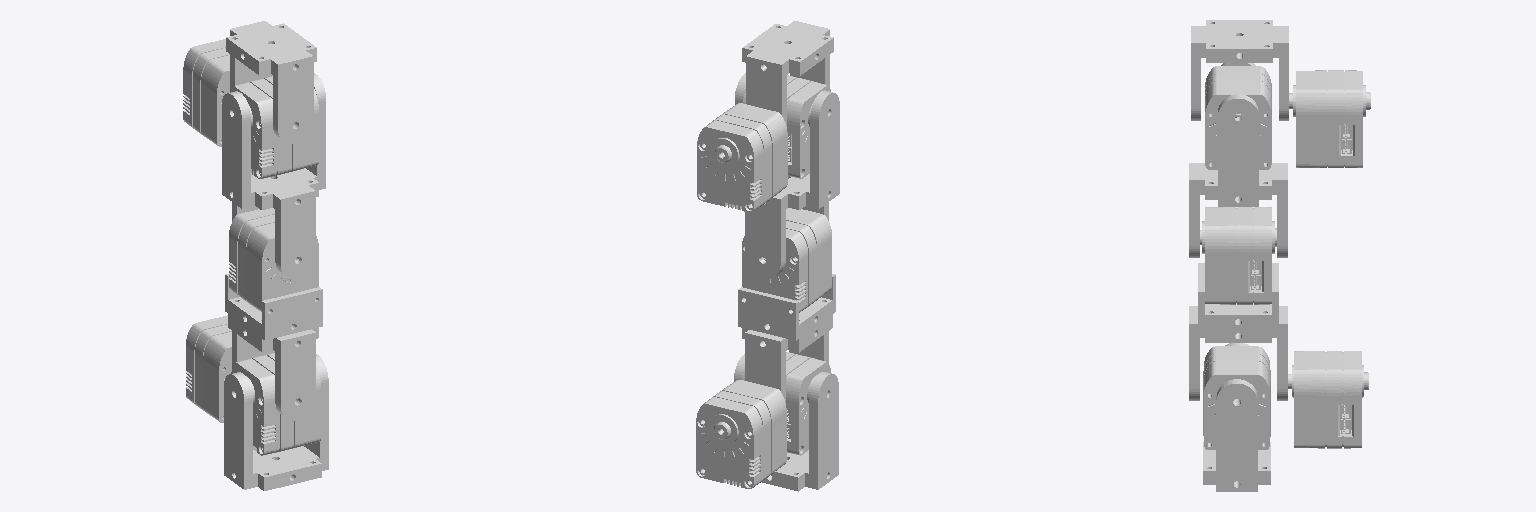
URDF robot description (walker):
<?xml version="1.0" ?>
<!-- =================================================================================== -->
<!-- |    This document was autogenerated by xacro from walker_left_leg.urdf.xacro     | -->
<!-- |    EDITING THIS FILE BY HAND IS NOT RECOMMENDED                                 | -->
<!-- =================================================================================== -->
<robot name="walker" xmlns:xacro="http://www.ros.org/wiki/xacro">
  <material name="gray">
    <color rgba="0.90 0.90 0.90 1.00"/>
  </material>
  <!-- <link name="lfoot_center"/> -->
  <!-- center of the left foot's sole. -->
  <!-- <xacro:create_fixed_joint name="lfoot_center_lfoot_joint" parent="lfoot_center" child="lfoot"/> -->
  <!-- The origin of lfoot_center and lfoot are the same, making the lfoot_center link seem useless, but I've made it since rfoot_center is going to be necessary(because the origin of the link rfoot is not at the center of the right foot's sole, due to the direction of the link chain). -->
  <!-- <link name="lfoot"> -->
  <!-- <xacro:create_mesh name="lfoot"/> -->
  <!-- </link> -->
  <!-- <xacro:create_fixed_joint name="lfoot_lA_joint" parent="lfoot" child="lA" x="-15" z="4"/> -->
  <!-- LEFT LEG -->
  <link name="lA">
    <!-- the offsets are used when "re-using" the left leg meshes for the right leg. It's somewhat confusing. -->
    <visual>
      <geometry>
        <mesh filename="package://walker_description/meshes/lA.stl" scale="0.001 0.001 0.001"/>
      </geometry>
      <material name="gray"/>
      <origin rpy="0 0 0.0" xyz="0.0 0.0 0.0"/>
    </visual>
  </link>
  <joint name="l_ankle_roll" type="revolute">
    <parent link="lA"/>
    <child link="lB"/>
    <origin rpy="0 0 0" xyz="0.019 0.0 0.038"/>
    <axis xyz="1 0 0"/>
    <limit effort="40.0" lower="-0.401425644444" upper="0.401425644444" velocity="1.0"/>
  </joint>
  <link name="lB">
    <!-- the offsets are used when "re-using" the left leg meshes for the right leg. It's somewhat confusing. -->
    <visual>
      <geometry>
        <mesh filename="package://walker_description/meshes/lB.stl" scale="0.001 0.001 0.001"/>
      </geometry>
      <material name="gray"/>
      <origin rpy="0 0 0.0" xyz="0.0 0.0 0.0"/>
    </visual>
  </link>
  <joint name="l_ankle_pitch" type="revolute">
    <parent link="lB"/>
    <child link="lC"/>
    <origin rpy="0 0 0" xyz="-0.01972 0.01954 0.0"/>
    <axis xyz="0 1 0"/>
    <limit effort="40.0" lower="-1.04719733333" upper="1.04719733333" velocity="1.0"/>
  </joint>
  <link name="lC">
    <!-- the offsets are used when "re-using" the left leg meshes for the right leg. It's somewhat confusing. -->
    <visual>
      <geometry>
        <mesh filename="package://walker_description/meshes/lC.stl" scale="0.001 0.001 0.001"/>
      </geometry>
      <material name="gray"/>
      <origin rpy="0 0 0.0" xyz="0.0 0.0 0.0"/>
    </visual>
  </link>
  <joint name="l_knee" type="revolute">
    <parent link="lC"/>
    <child link="lD"/>
    <origin rpy="0 0 0" xyz="0.0 0.0 0.061"/>
    <axis xyz="0 1 0"/>
    <limit effort="40.0" lower="-1.570796" upper="0.0" velocity="1.0"/>
  </joint>
  <link name="lD">
    <!-- the offsets are used when "re-using" the left leg meshes for the right leg. It's somewhat confusing. -->
    <visual>
      <geometry>
        <mesh filename="package://walker_description/meshes/lD.stl" scale="0.001 0.001 0.001"/>
      </geometry>
      <material name="gray"/>
      <origin rpy="0 0 0.0" xyz="0.0 0.0 0.0"/>
    </visual>
  </link>
  <joint name="l_hip_roll" type="revolute">
    <parent link="lD"/>
    <child link="lE"/>
    <origin rpy="0 0 0" xyz="0.019 -0.019 0.058"/>
    <axis xyz="1 0 0"/>
    <limit effort="40.0" lower="-0.401425644444" upper="0.401425644444" velocity="1.0"/>
  </joint>
  <link name="lE">
    <!-- the offsets are used when "re-using" the left leg meshes for the right leg. It's somewhat confusing. -->
    <visual>
      <geometry>
        <mesh filename="package://walker_description/meshes/lB.stl" scale="0.001 0.001 0.001"/>
      </geometry>
      <material name="gray"/>
      <origin rpy="0 0 0.0" xyz="0.0 0.0 0.0"/>
    </visual>
    <!-- lB and lE are the same -->
  </link>
  <link name="lF">
    <!-- the offsets are used when "re-using" the left leg meshes for the right leg. It's somewhat confusing. -->
    <visual>
      <geometry>
        <mesh filename="package://walker_description/meshes/lF.stl" scale="0.001 0.001 0.001"/>
      </geometry>
      <material name="gray"/>
      <origin rpy="0 0 0.0" xyz="0.0 0.0 0.0"/>
    </visual>
  </link>
  <joint name="l_hip_pitch" type="revolute">
    <parent link="lE"/>
    <child link="lF"/>
    <origin rpy="0 0 0" xyz="-0.01972 0.01954 0.0"/>
    <axis xyz="0 1 0"/>
    <limit effort="40.0" lower="-1.04719733333" upper="1.04719733333" velocity="1.0"/>
  </joint>
</robot>

--- What the picture shows (computed from the rendered views, not written in the file) ---
Views: 3 orthographic renders of the robot side by side, from view 1: azimuth 30°, elevation 25°; view 2: azimuth 150°, elevation 25°; view 3: azimuth 270°, elevation 25°.
Model walker with 6 links and 5 joints (5 revolute), rooted at lA, posed every joint at zero.
Visible links, largest first — view 1: lC, lD, lB, lE, lF, lA; view 2: lC, lB, lE, lD, lF, lA; view 3: lC, lB, lE, lD, lA, lF.
Link boxes in pixels (box(x1,y1,x2,y2)): lC: box(225, 208, 322, 420); lD: box(222, 73, 325, 278); lB: box(186, 315, 320, 455); lE: box(183, 39, 318, 178); lF: box(226, 21, 316, 144); lA: box(224, 354, 328, 490); lC: box(738, 208, 835, 402); lB: box(696, 352, 830, 488); lE: box(697, 75, 830, 212); lD: box(735, 73, 839, 278); lF: box(742, 21, 833, 125); lA: box(734, 354, 838, 491); lC: box(1189, 207, 1287, 400); lB: box(1203, 346, 1368, 449); lE: box(1205, 66, 1370, 169); lD: box(1189, 63, 1287, 257); lA: box(1203, 343, 1270, 491); lF: box(1191, 20, 1288, 120).
Size in the robot's own frame: 0.0387 by 0.0701 by 0.185 metres.
Meshes: 5 distinct files referenced, 6 mesh visuals loaded (5 binary STL).
